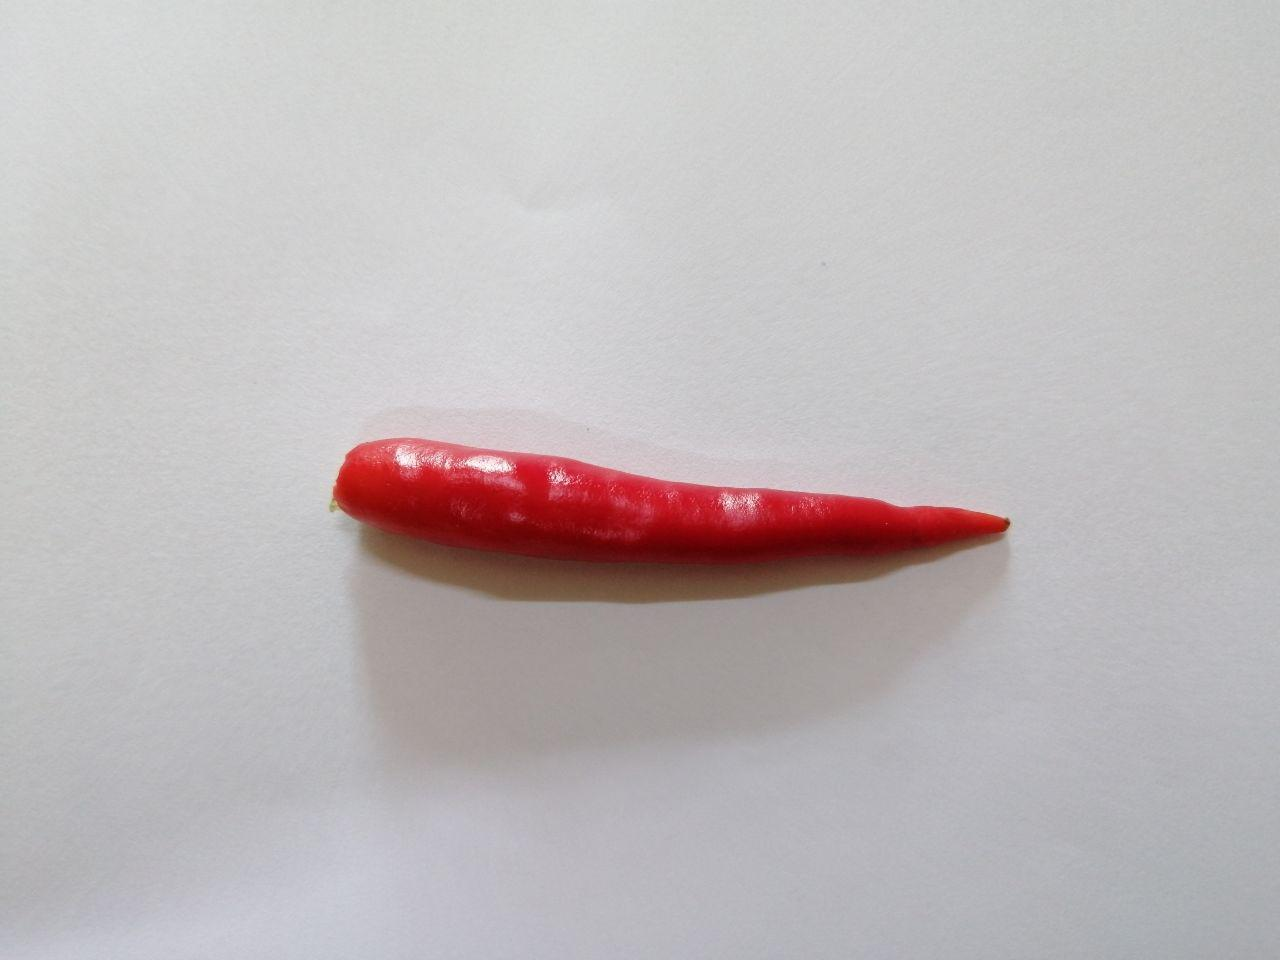lada merah: (302, 414, 1056, 622)
